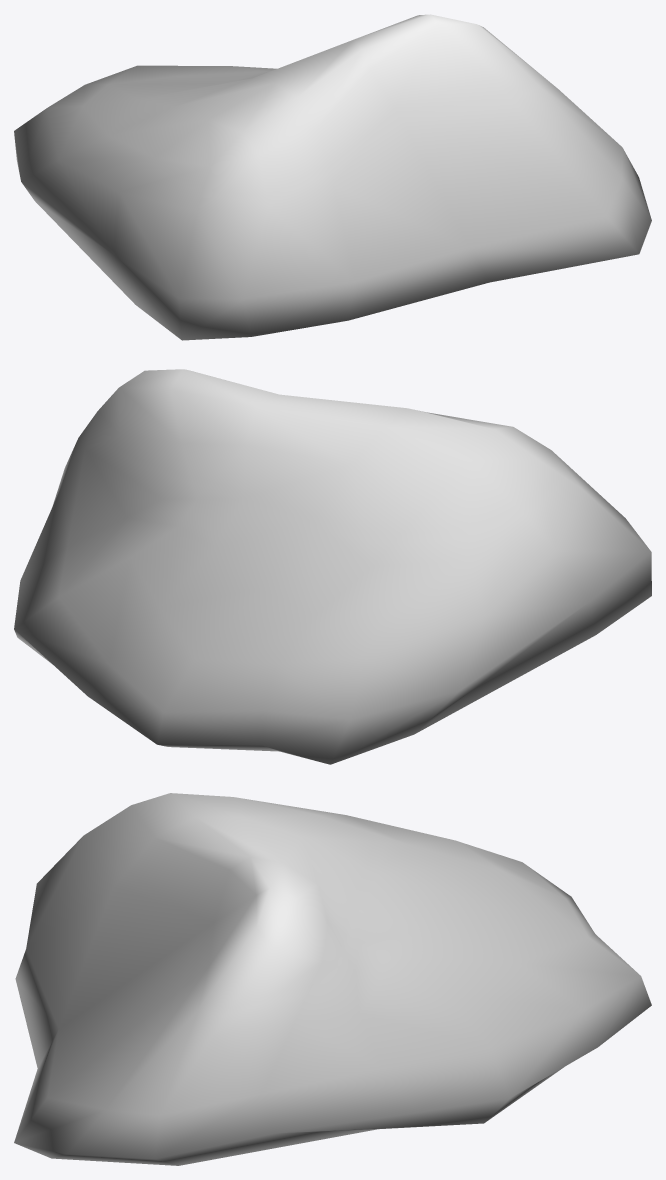
Rendered from Snowbank_02.fbx.
The picture shows the model from 3 angles, top to bottom: view 1: azimuth 30°, elevation 25°; view 2: azimuth 150°, elevation 25°; view 3: azimuth 270°, elevation 25°; orthographic projection. The views are drawn at different scales.
Visible parts, largest first — view 1: Snowbank_02; view 2: Snowbank_02; view 3: Snowbank_02.
Part boxes in pixels (x1=…): Snowbank_02: x1=14, y1=14, x2=651, y2=340; Snowbank_02: x1=14, y1=369, x2=651, y2=764; Snowbank_02: x1=14, y1=793, x2=651, y2=1165.
Size of the model in its own units: 253 by 89.02 by 250.
